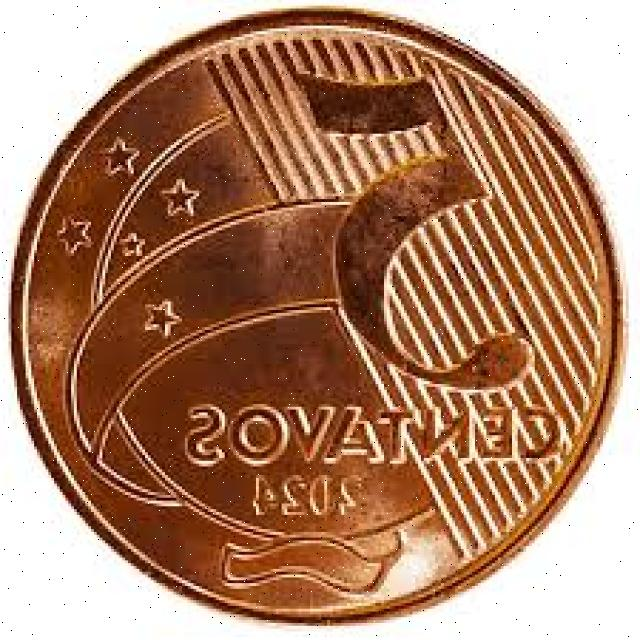5 cent: (11, 4, 625, 626)
